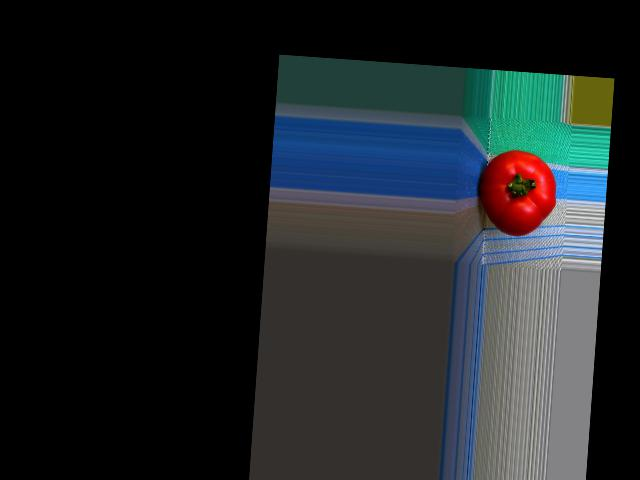tomato: (475, 147, 559, 238)
